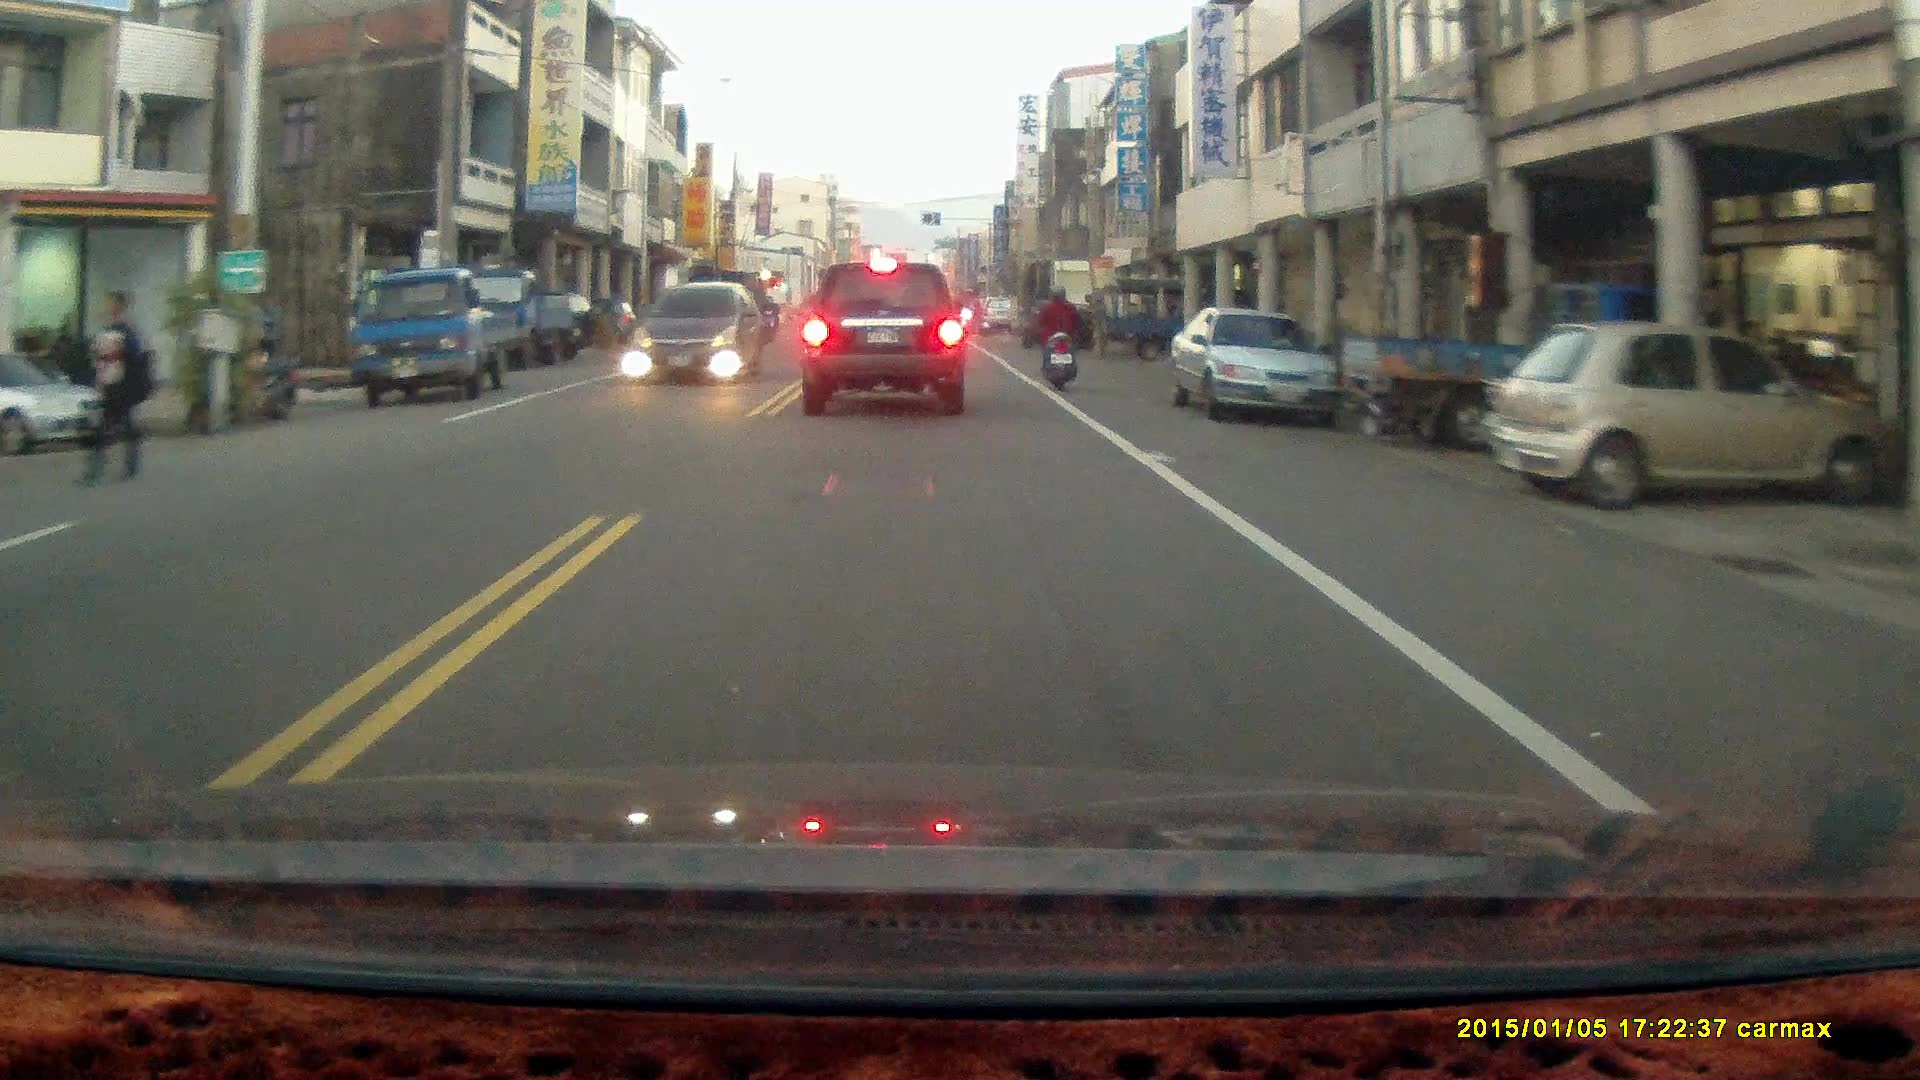pedestrian: (69, 289, 148, 482), (260, 290, 287, 374)
rider: (1036, 281, 1079, 389), (756, 294, 782, 342)
vehicle: (1497, 317, 1863, 514), (795, 255, 970, 418), (354, 265, 527, 406), (1170, 307, 1346, 422), (634, 279, 764, 383), (1, 349, 127, 453)
